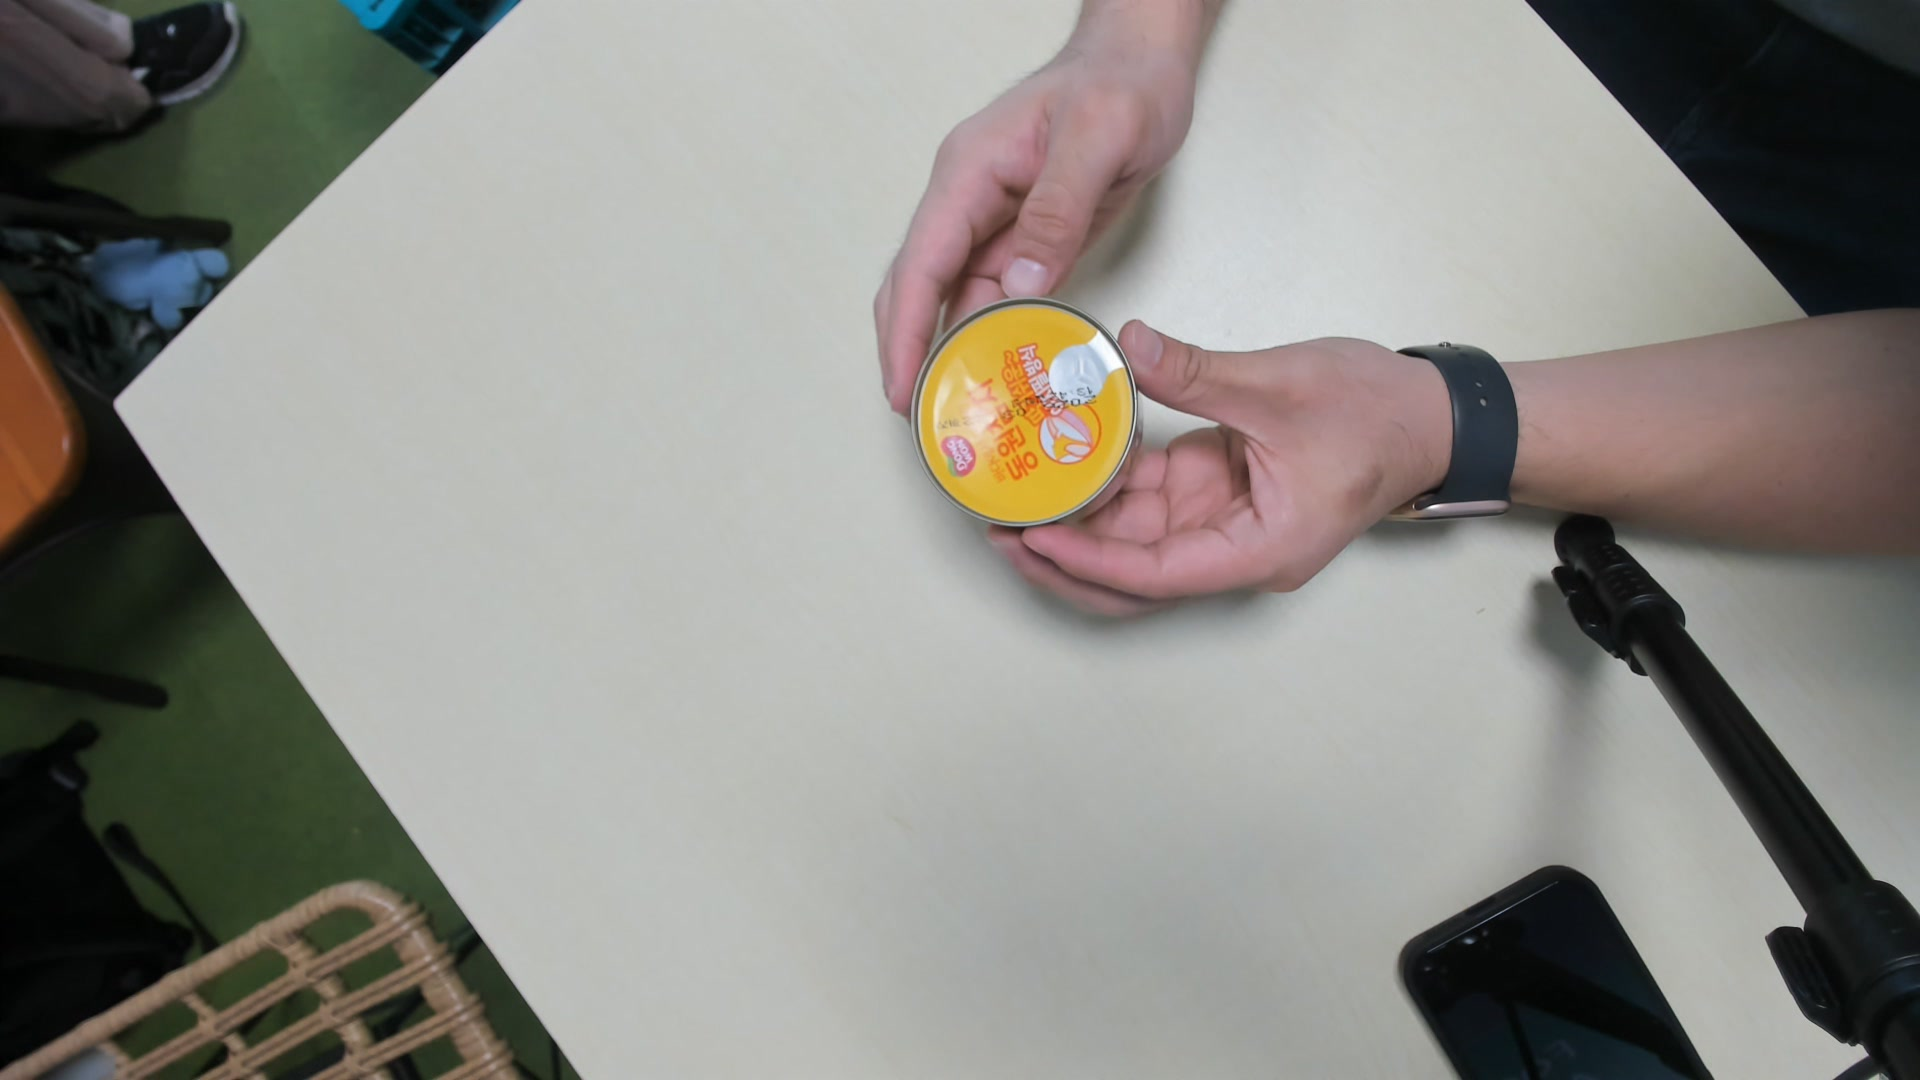OtherSauceDressing_0-99g_NonHalal_NonHealthy: (913, 295, 1145, 539)
